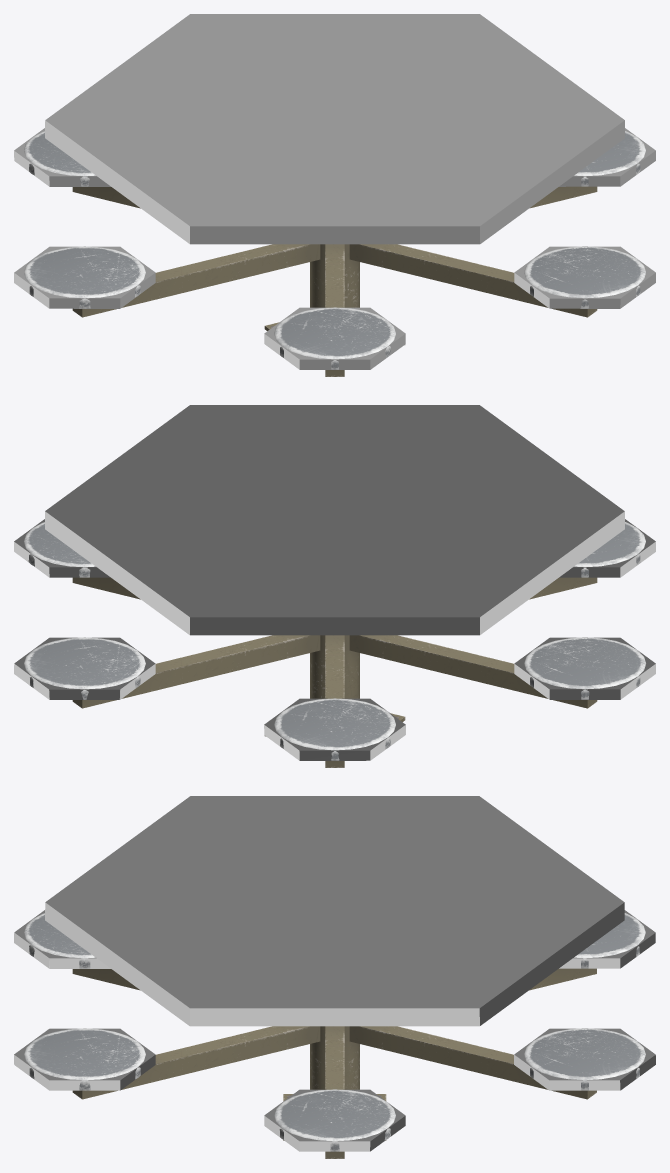
The model's file is SM_Table_02.fbx.
3 views of the same model, one above another, from view 1: azimuth 30°, elevation 25°; view 2: azimuth 150°, elevation 25°; view 3: azimuth 270°, elevation 25° (orthographic).
Visible parts, largest first — view 1: SM_Table_02_ConvexHulls, SM_Table_02; view 2: SM_Table_02_ConvexHulls, SM_Table_02; view 3: SM_Table_02_ConvexHulls, SM_Table_02.
Boxes of the visible parts, bbox=[...] form: SM_Table_02_ConvexHulls: bbox=[14, 14, 655, 369]; SM_Table_02: bbox=[24, 131, 645, 376]; SM_Table_02_ConvexHulls: bbox=[14, 405, 655, 760]; SM_Table_02: bbox=[24, 522, 645, 767]; SM_Table_02_ConvexHulls: bbox=[14, 796, 655, 1151]; SM_Table_02: bbox=[24, 913, 645, 1158].
Bounding box in the file's own units: 245 × 225 × 83.78.
Materials: 2 (1 with a texture image).
